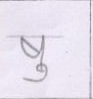u_matra: (26, 64, 50, 83)
